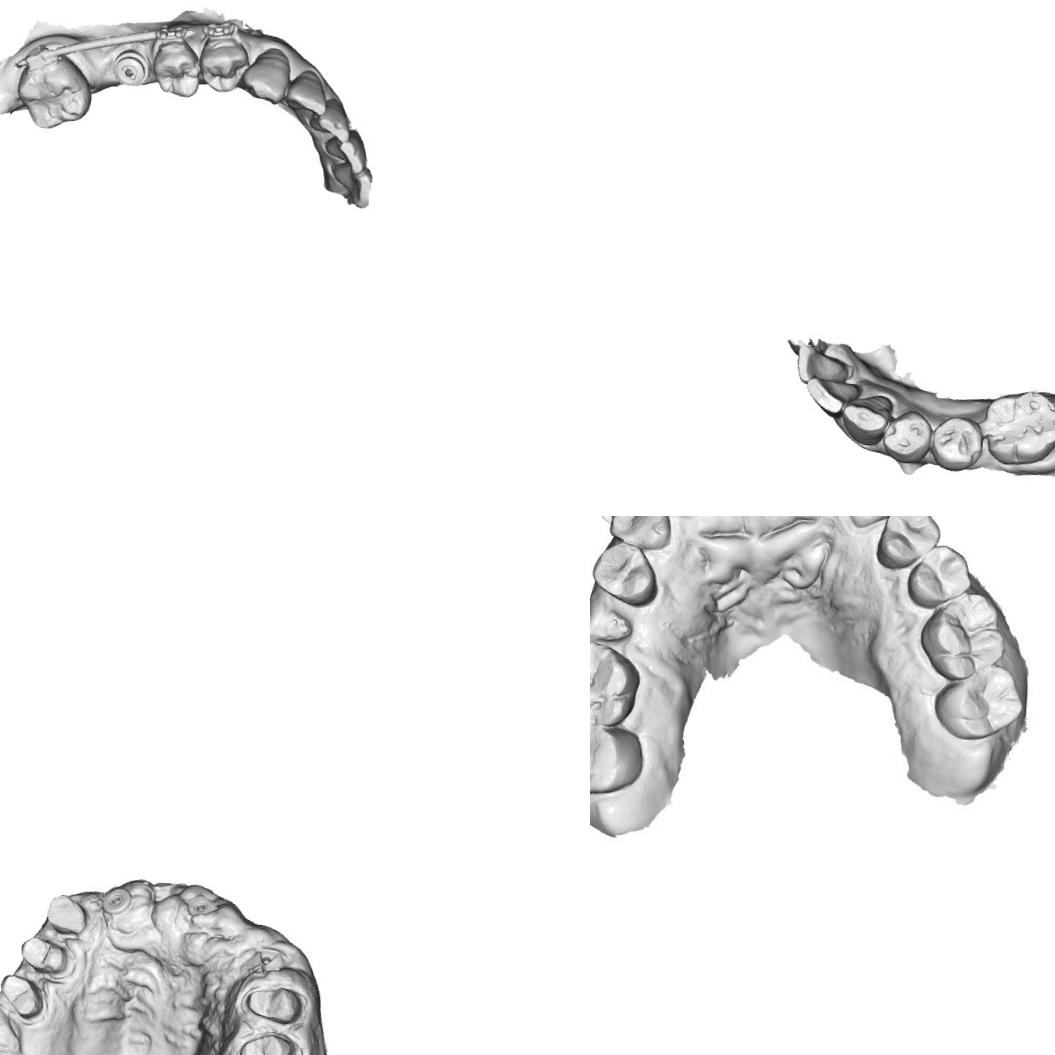canine: (838, 390, 894, 448), (238, 45, 291, 105), (605, 516, 675, 548)
crown: (243, 983, 307, 1025), (0, 971, 50, 1021), (44, 891, 88, 936), (19, 934, 68, 974), (237, 1029, 297, 1055)
implant: (98, 884, 134, 916), (184, 890, 221, 916)
implant_minus: (110, 47, 152, 88)
incisor: (803, 374, 864, 420), (794, 342, 852, 386), (282, 66, 327, 117), (328, 124, 371, 176), (332, 162, 374, 209), (318, 96, 352, 142)
molar: (916, 584, 1013, 684), (930, 658, 1027, 744), (14, 50, 95, 133), (979, 385, 1055, 469), (590, 635, 641, 729), (590, 715, 646, 796)
premolar: (902, 540, 976, 611), (590, 537, 662, 609), (873, 516, 941, 571), (927, 412, 986, 474), (880, 405, 934, 467), (150, 34, 202, 98), (196, 36, 251, 96)
